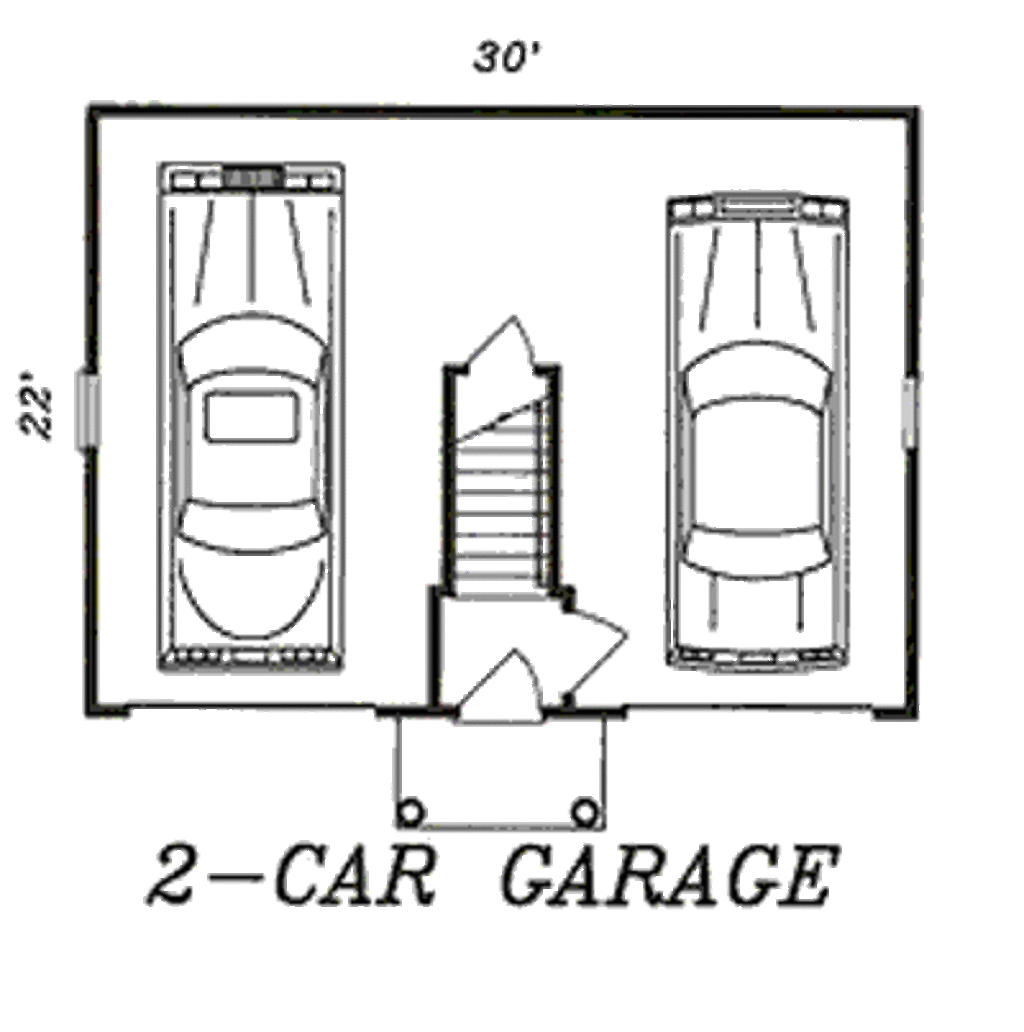door: (447, 650, 539, 718), (570, 602, 627, 686), (469, 312, 548, 369)
stairs: (450, 366, 559, 597)
window: (78, 369, 104, 443), (904, 377, 926, 451)
